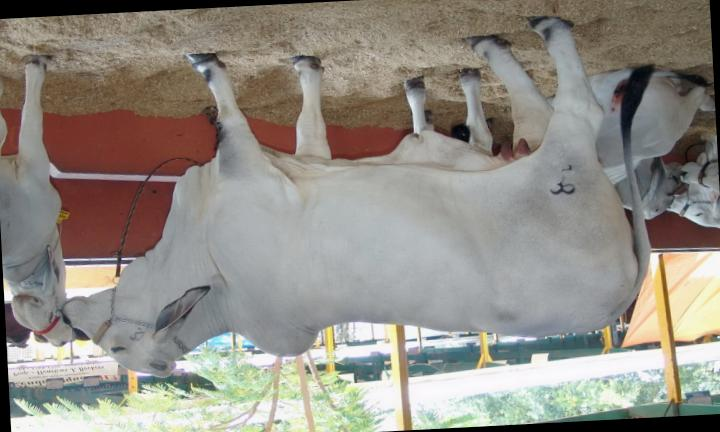Brahman: (64, 17, 649, 377), (0, 56, 71, 346)
